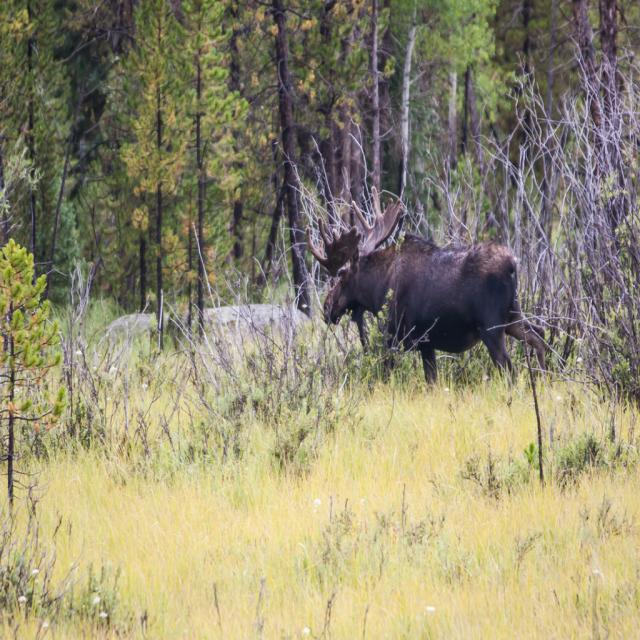Deer: (306, 184, 545, 391)
